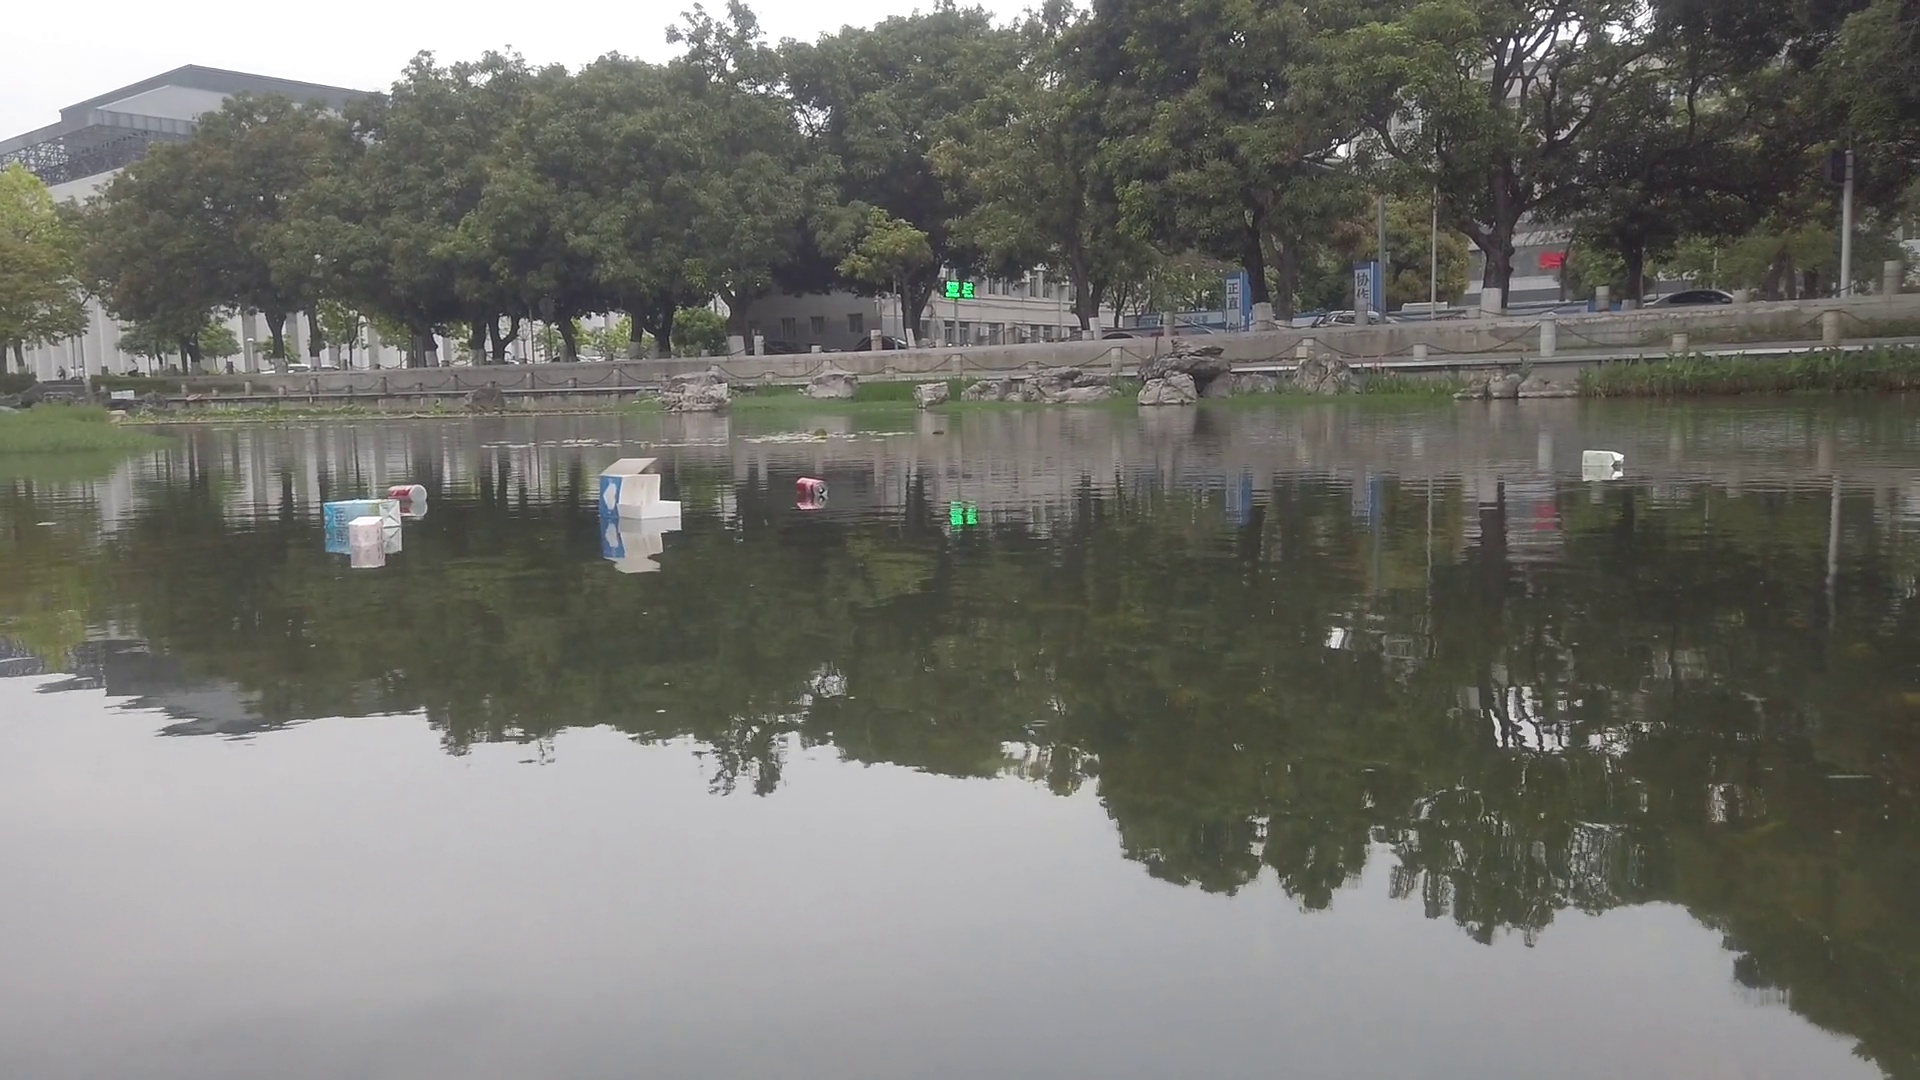bottle: (386, 479, 430, 505), (796, 476, 832, 501)
carton: (593, 458, 683, 525), (324, 498, 402, 535), (345, 516, 389, 549), (1584, 447, 1630, 469)
